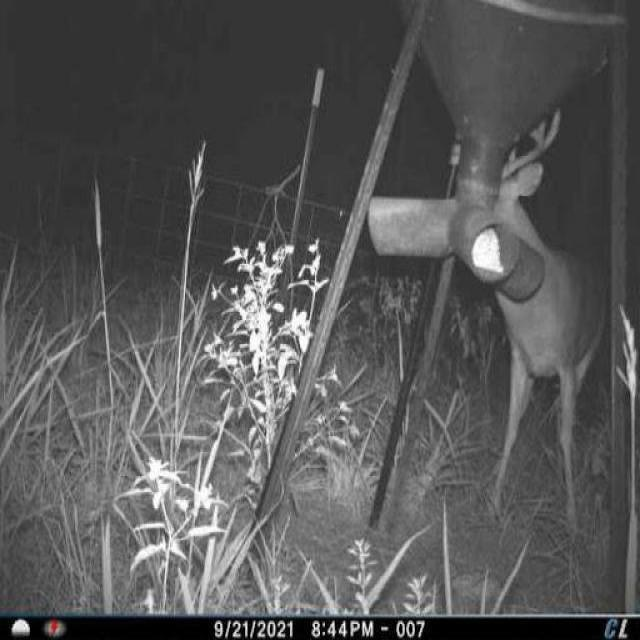deer: (406, 117, 622, 544)
